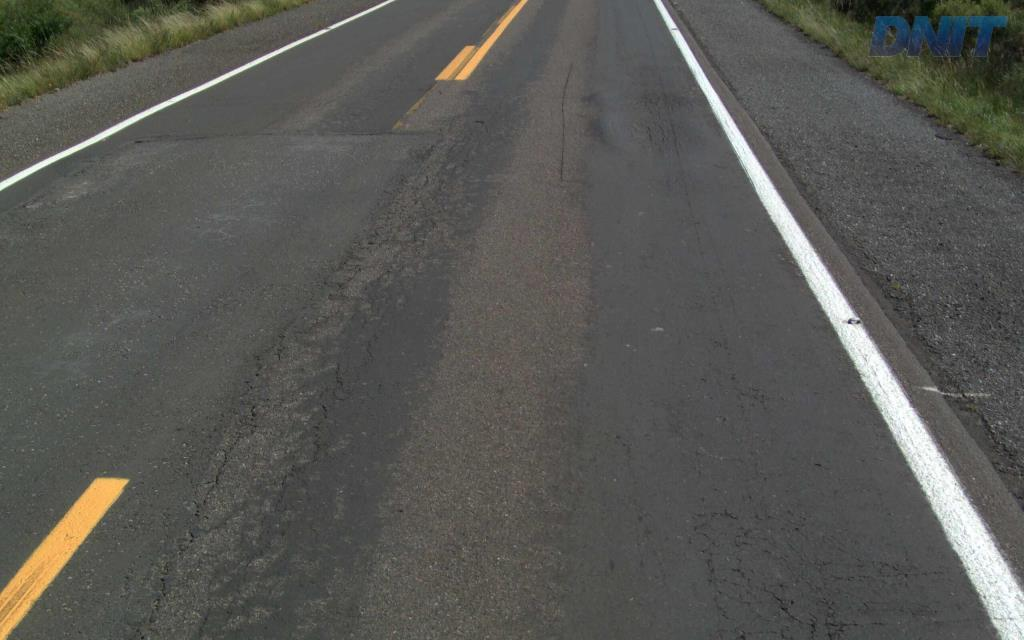crack: (815, 597, 858, 639)
